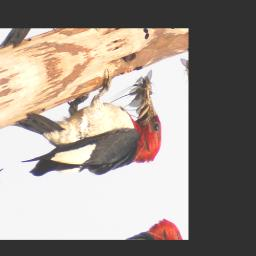Woodpecker: (8, 55, 167, 208)
